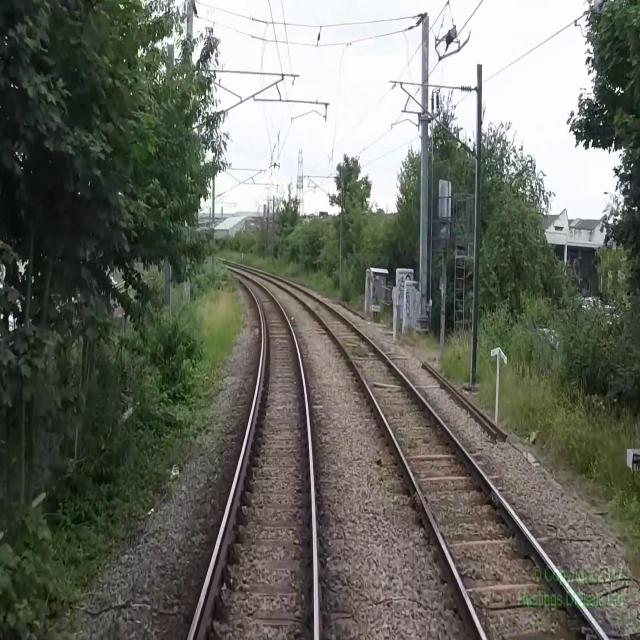rail-track: (267, 275, 603, 639), (193, 270, 313, 639)
